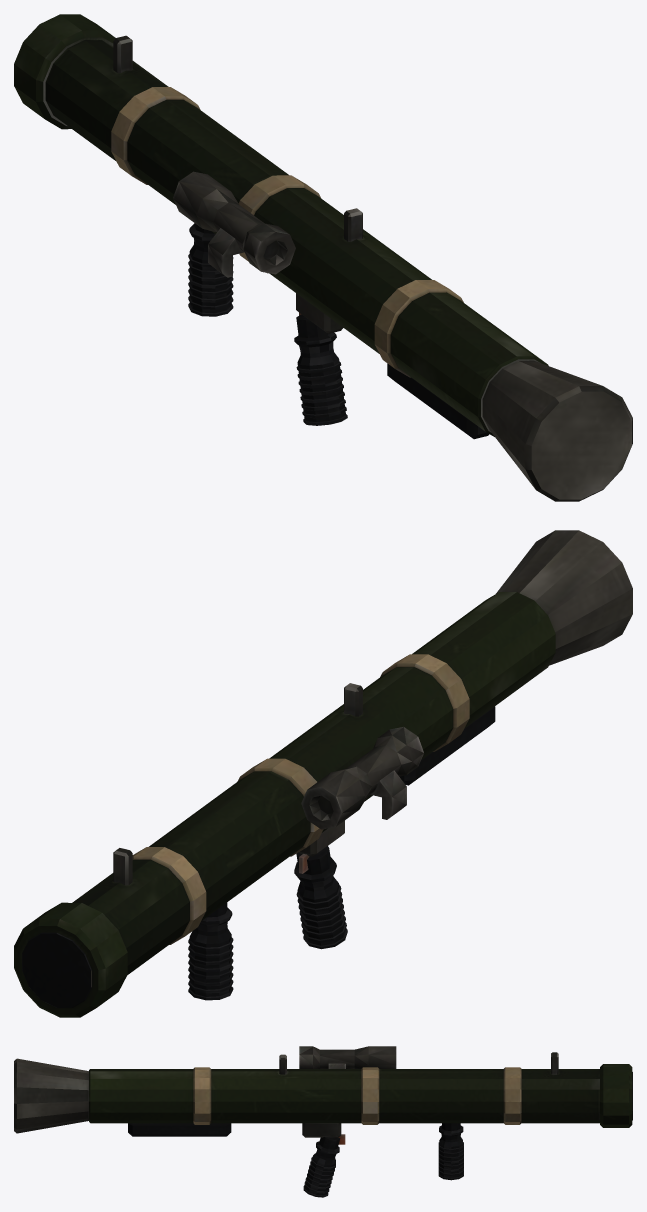
The model's file is rocket.glb.
The picture shows the model from 3 angles, top to bottom: view 1: azimuth 30°, elevation 25°; view 2: azimuth 150°, elevation 25°; view 3: azimuth 270°, elevation 25°; orthographic projection. The views are drawn at different scales.
Visible parts, largest first — view 1: cyl; view 2: cyl; view 3: cyl.
Boxes of the visible parts, left/top/right/bottom form: cyl: left=14, top=14, right=632, bottom=501; cyl: left=14, top=530, right=632, bottom=1017; cyl: left=14, top=1046, right=632, bottom=1197.
Size of the model in its own units: 0.1676 by 0.2617 by 1.04.
Materials: 1 (1 with a texture image).
